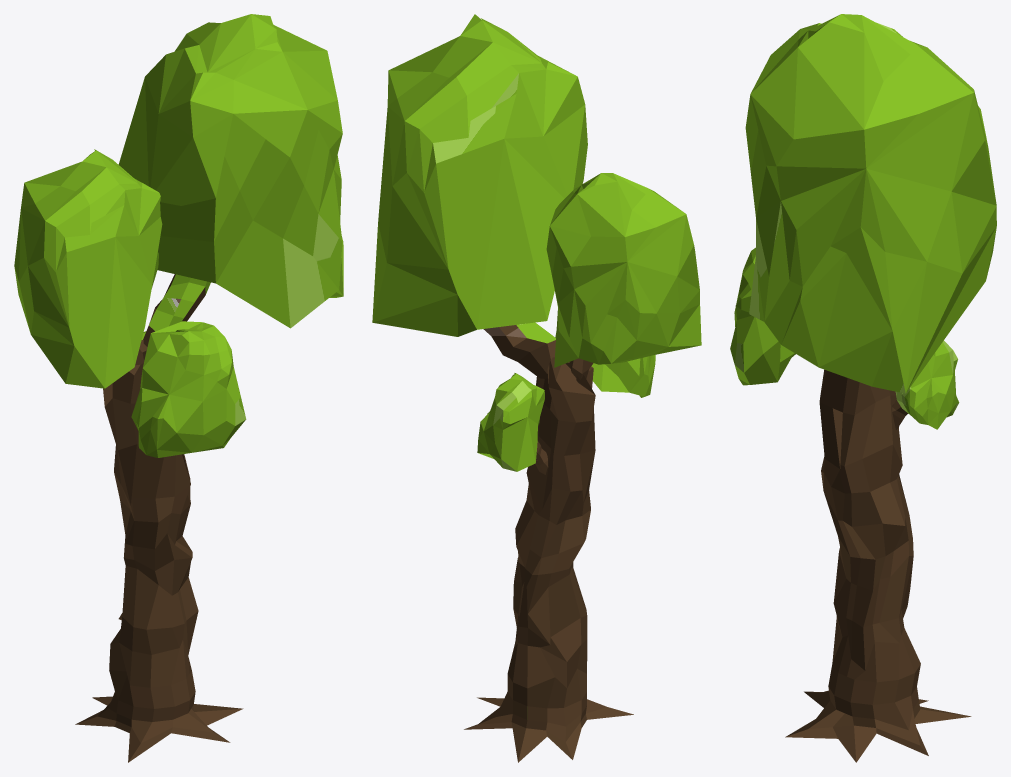
File: bigtree.glb
The picture shows the model from 3 angles, left to right: view 1: azimuth 30°, elevation 25°; view 2: azimuth 150°, elevation 25°; view 3: azimuth 270°, elevation 25°; orthographic projection. The views are drawn at different scales.
Visible parts, largest first — view 1: Icosphere.001; view 2: Icosphere.001; view 3: Icosphere.001.
Boxes of the visible parts, box(x1,y1,x2,y2) form: Icosphere.001: box(14, 14, 343, 762); Icosphere.001: box(372, 14, 701, 762); Icosphere.001: box(730, 14, 996, 762).
Bounding box in the file's own units: 8.39 × 18.86 × 6.02.
1 material, 1 textured.
